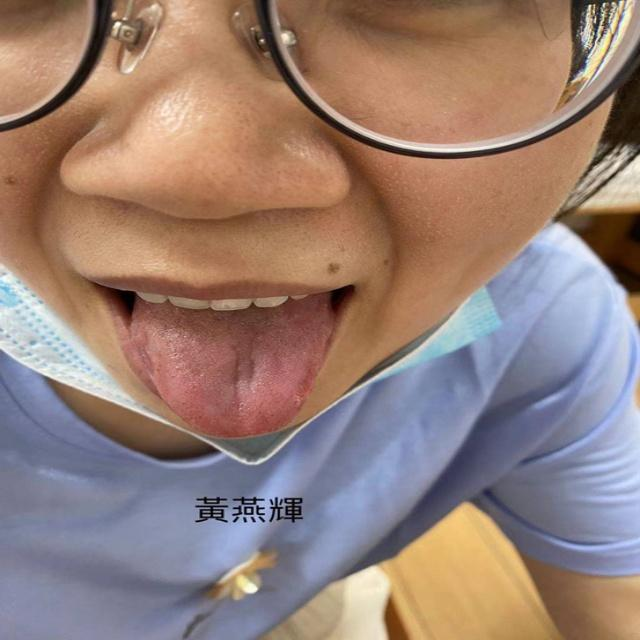baitaishe: (130, 310, 334, 439)
